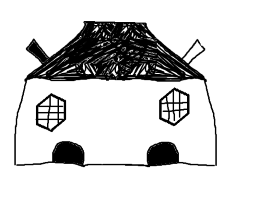chimney: (171, 38, 215, 67), (24, 35, 52, 69)
closed_window: (152, 85, 197, 125), (32, 90, 69, 132)
door: (140, 135, 188, 168), (48, 138, 90, 167)
shaded_roof: (20, 16, 208, 83)
wall: (10, 75, 222, 173)
